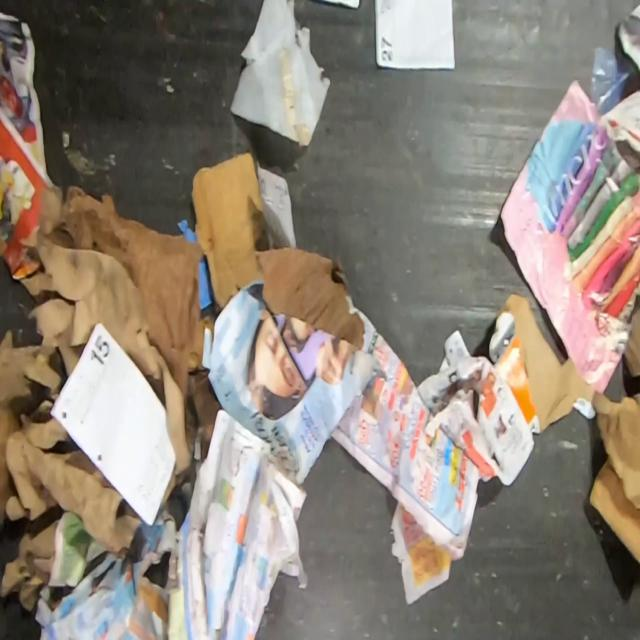cardboard: (0, 232, 192, 561), (41, 184, 213, 405), (488, 290, 598, 435), (587, 300, 640, 563), (187, 152, 274, 312), (255, 244, 377, 355)
soft_plastic: (588, 43, 630, 115)
